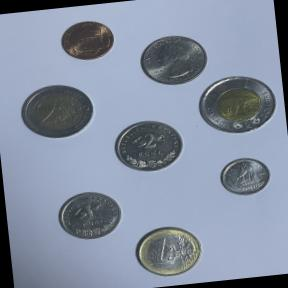1 Euro: (129, 221, 206, 282)
2 Euro: (14, 80, 98, 144)
Canda-10cent-: (215, 152, 276, 200)
Canda-2Dollar-: (196, 72, 284, 140)
Croatia-2Kune-: (106, 113, 188, 178)
US-1cent-: (56, 16, 119, 67)
US-25cent-: (136, 30, 211, 90)
